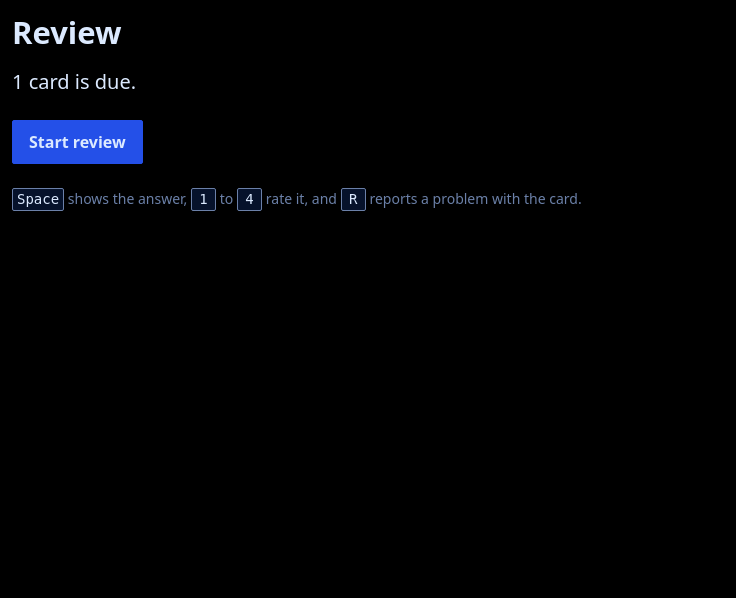
Test: Review card flip › shows a reverse card in the reverse direction on odd reps
Click the button "Start review".
click(77, 142)  # box top-left (12, 120), bottom-right (143, 164)
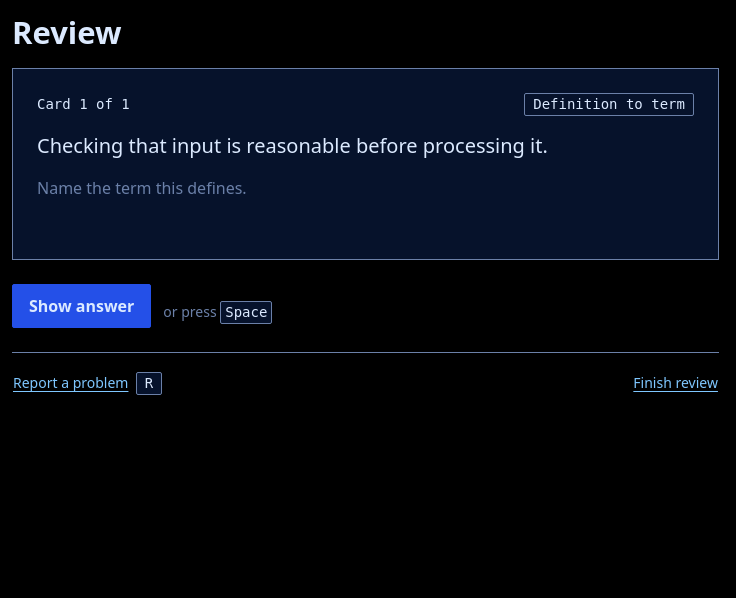
Expected: the text "Validation" is not shown
Now the text "Checking that input is reasonable before processing it." is shown, box top-left (37, 132), bottom-right (548, 159)
Now the text "Name the term this defines." is shown, box top-left (37, 177), bottom-right (247, 199)
Press Space in the element named "Card 1 of 1, question", box top-left (12, 68), bottom-right (719, 260)
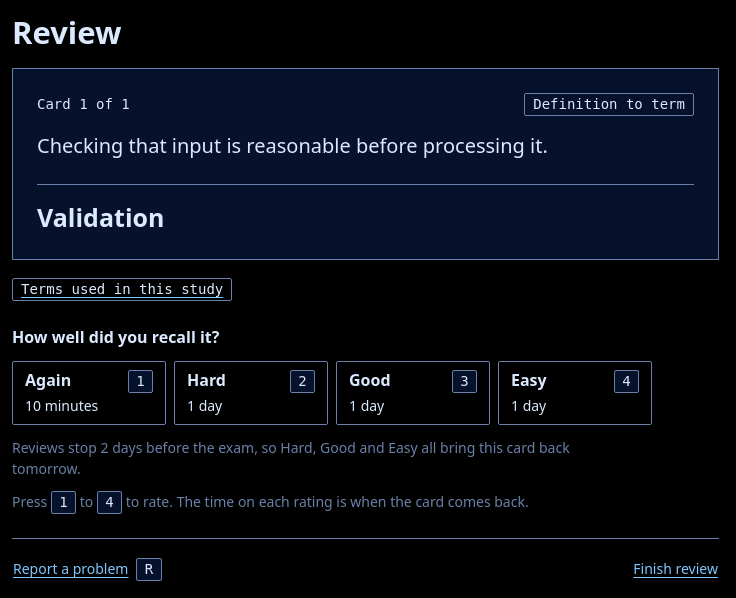
Now the text "Validation" is shown, box top-left (37, 200), bottom-right (164, 234)
